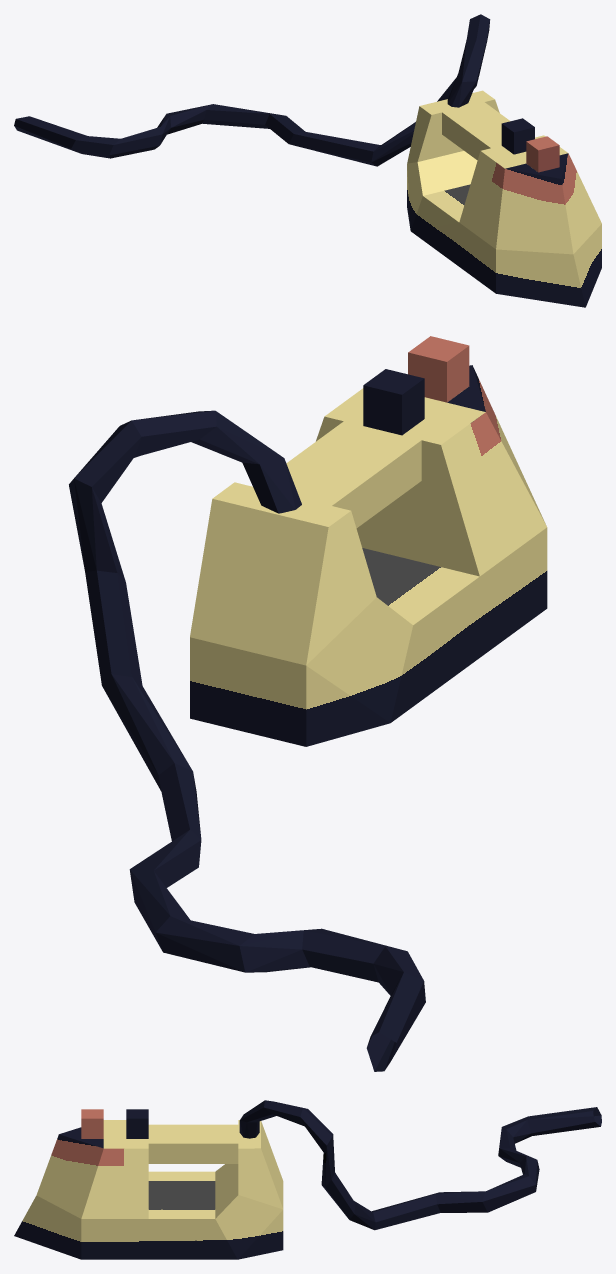
File: SM_Iron.fbx
3 renders of one model, top to bottom at view 1: azimuth 30°, elevation 25°; view 2: azimuth 150°, elevation 25°; view 3: azimuth 270°, elevation 25°, orthographic. The views are drawn at different scales.
Parts seen in each view (by area): view 1: Iron.001; view 2: Iron.001; view 3: Iron.001.
Boxes of the visible parts, x1,y1,x2,y2 form: Iron.001: (14,14,601,307); Iron.001: (69,336,547,1071); Iron.001: (14,1100,601,1259).
Bounding box in the file's own units: 48.08 × 23.29 × 81.86.
